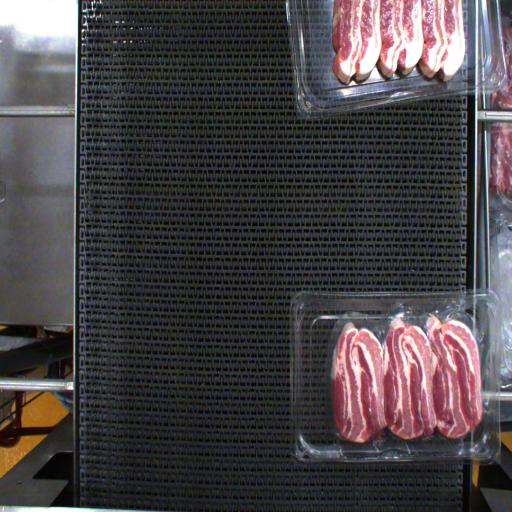unsealed: (318, 294, 490, 465)
